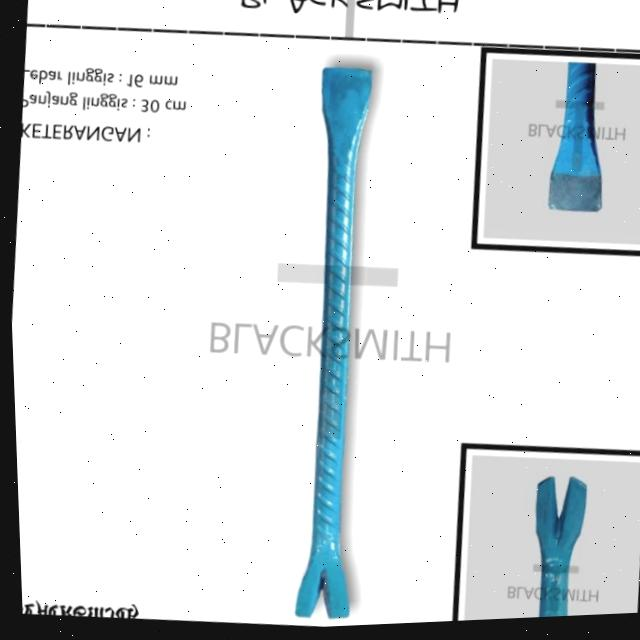crow bar: (285, 70, 372, 625)
